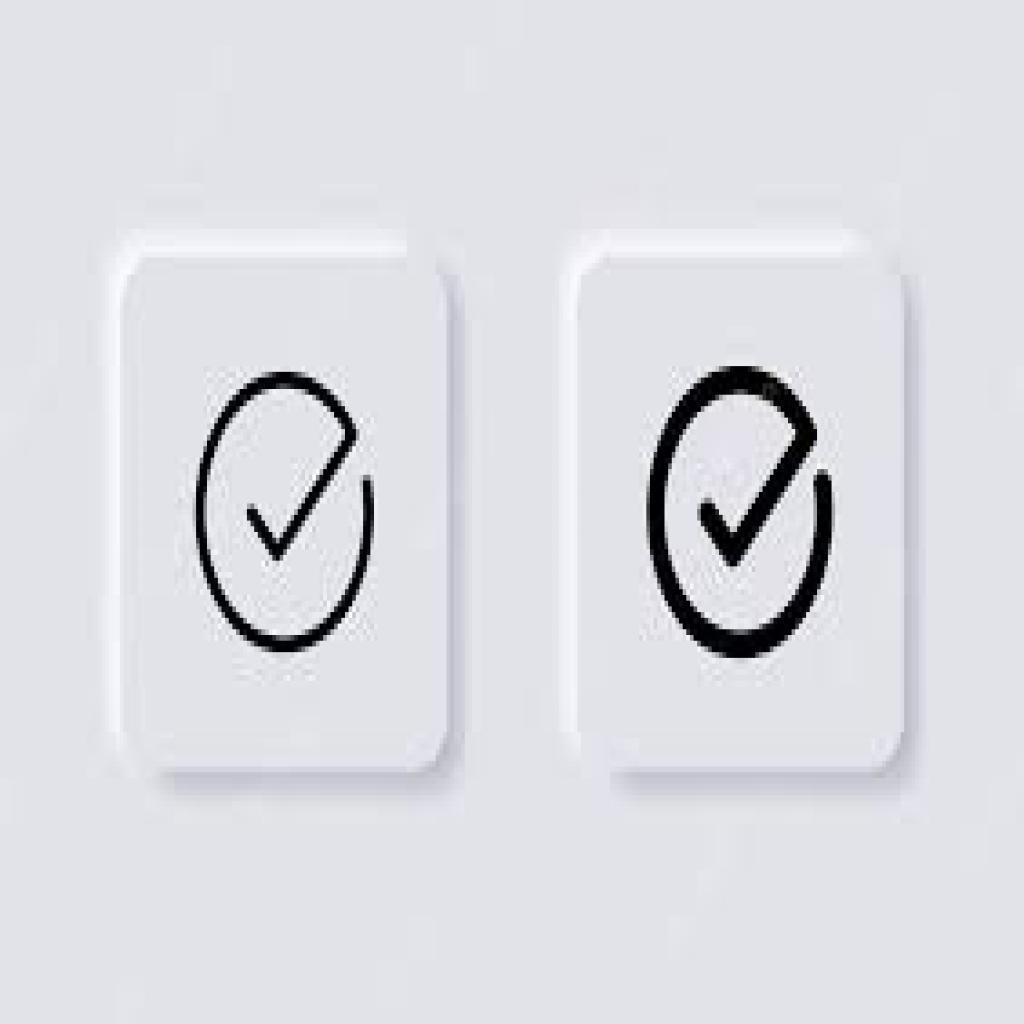checkbox: (648, 368, 834, 660), (192, 372, 375, 657)
